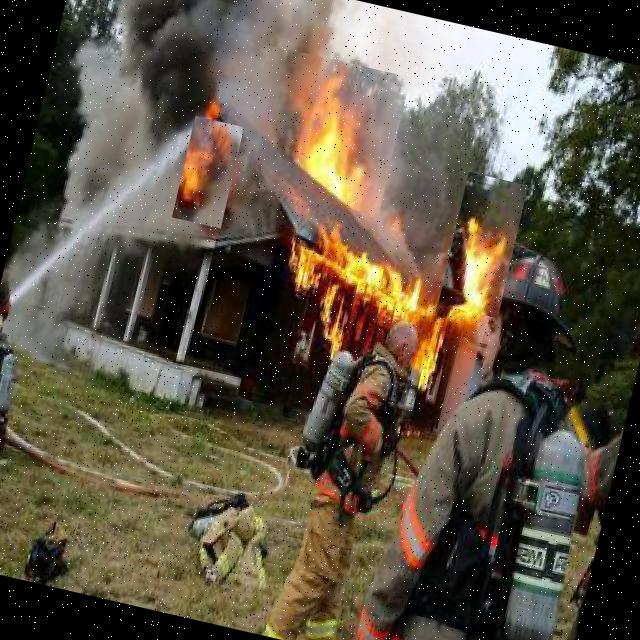fire: (256, 49, 410, 215), (276, 232, 440, 354), (438, 172, 528, 318), (172, 115, 244, 228)
